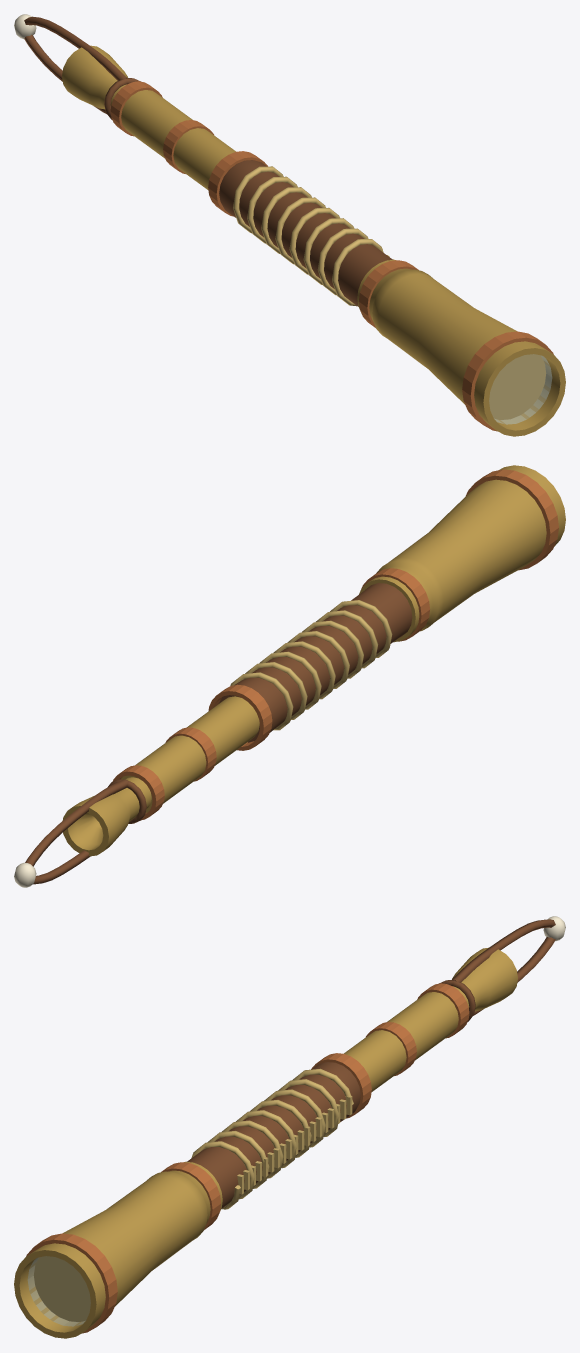
Rendered from tool_spyglass.fbx.
3 views of the same model, one above another, from view 1: azimuth 30°, elevation 25°; view 2: azimuth 150°, elevation 25°; view 3: azimuth 330°, elevation 25° (orthographic).
Visible parts, largest first — view 1: Tool_Spyglass_Objective, Tool_Spyglass_Grip, Tool_Spyglass_Tubes, Tool_Spyglass_Bands, Tool_Spyglass_GripCord, Tool_Spyglass_Lens, Tool_Spyglass_Lanyard; view 2: Tool_Spyglass_Objective, Tool_Spyglass_Tubes, Tool_Spyglass_Grip, Tool_Spyglass_Bands, Tool_Spyglass_GripCord, Tool_Spyglass_Lanyard; view 3: Tool_Spyglass_Objective, Tool_Spyglass_Tubes, Tool_Spyglass_GripCord, Tool_Spyglass_Grip, Tool_Spyglass_Bands, Tool_Spyglass_Lens, Tool_Spyglass_Lanyard.
Boxes of the visible parts, x1=… form: Tool_Spyglass_Objective: x1=357, y1=259, x2=565, y2=436; Tool_Spyglass_Grip: x1=219, y1=160, x2=392, y2=306; Tool_Spyglass_Tubes: x1=62, y1=45, x2=235, y2=189; Tool_Spyglass_Bands: x1=110, y1=81, x2=553, y2=431; Tool_Spyglass_GripCord: x1=233, y1=166, x2=393, y2=306; Tool_Spyglass_Lens: x1=489, y1=354, x2=552, y2=424; Tool_Spyglass_Lanyard: x1=14, y1=14, x2=140, y2=119; Tool_Spyglass_Objective: x1=359, y1=465, x2=565, y2=642; Tool_Spyglass_Tubes: x1=62, y1=696, x2=259, y2=856; Tool_Spyglass_Grip: x1=218, y1=583, x2=412, y2=742; Tool_Spyglass_Bands: x1=112, y1=469, x2=558, y2=820; Tool_Spyglass_GripCord: x1=230, y1=600, x2=392, y2=730; Tool_Spyglass_Lanyard: x1=14, y1=779, x2=146, y2=887; Tool_Spyglass_Objective: x1=14, y1=1161, x2=222, y2=1338; Tool_Spyglass_Tubes: x1=344, y1=947, x2=517, y2=1091; Tool_Spyglass_GripCord: x1=191, y1=1068, x2=353, y2=1209; Tool_Spyglass_Grip: x1=187, y1=1062, x2=360, y2=1208; Tool_Spyglass_Bands: x1=26, y1=983, x2=469, y2=1333; Tool_Spyglass_Lens: x1=27, y1=1256, x2=90, y2=1326; Tool_Spyglass_Lanyard: x1=439, y1=916, x2=565, y2=1021.
Size of the model in its own units: 8.3 by 8.3 by 82.25.
